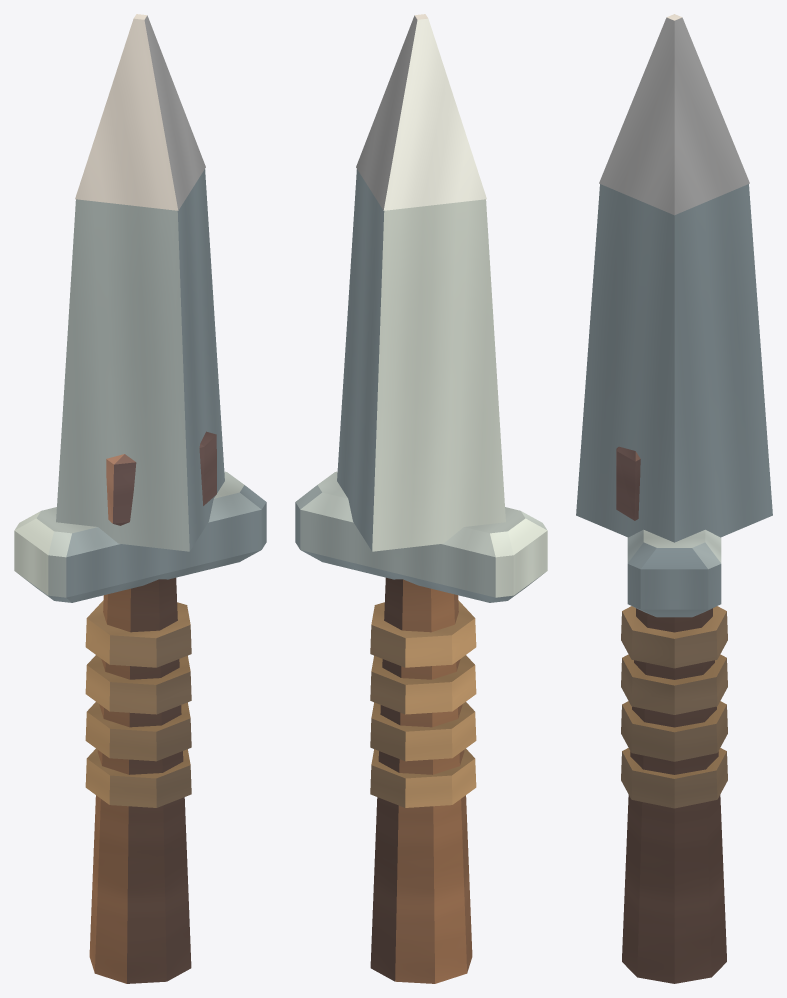
The model's file is gear_silver.glb.
3 views of the same model, side by side, from view 1: azimuth 30°, elevation 25°; view 2: azimuth 150°, elevation 25°; view 3: azimuth 270°, elevation 25° (orthographic).
Parts seen in each view (by area): view 1: silver; view 2: silver; view 3: silver.
Boxes of the visible parts, <box> form: silver: <box>14,14,266,983</box>; silver: <box>295,14,547,983</box>; silver: <box>576,14,772,983</box>.
Bounding box in the file's own units: 0.22 × 0.91 × 0.172.
Materials: 2 (2 with a texture image).
